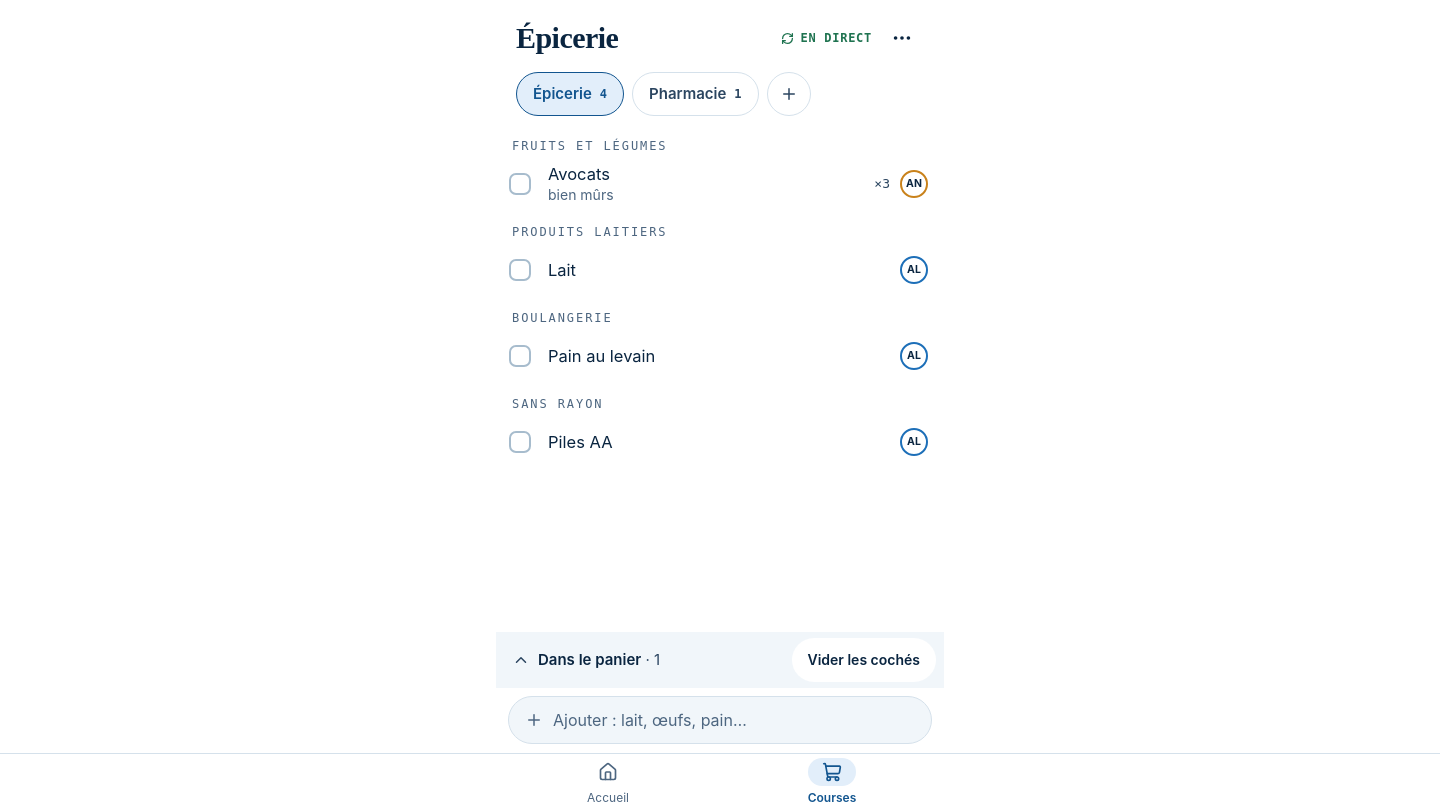
Test: cocher et le panier › décocher depuis le panier remet l’article dans son rayon
Expected: the heading "Épicerie" is shown, top-left (516, 21), bottom-right (618, 54)
Click the button "Dans le panier · 1" at (644, 660), box top-left (504, 636), bottom-right (784, 684)
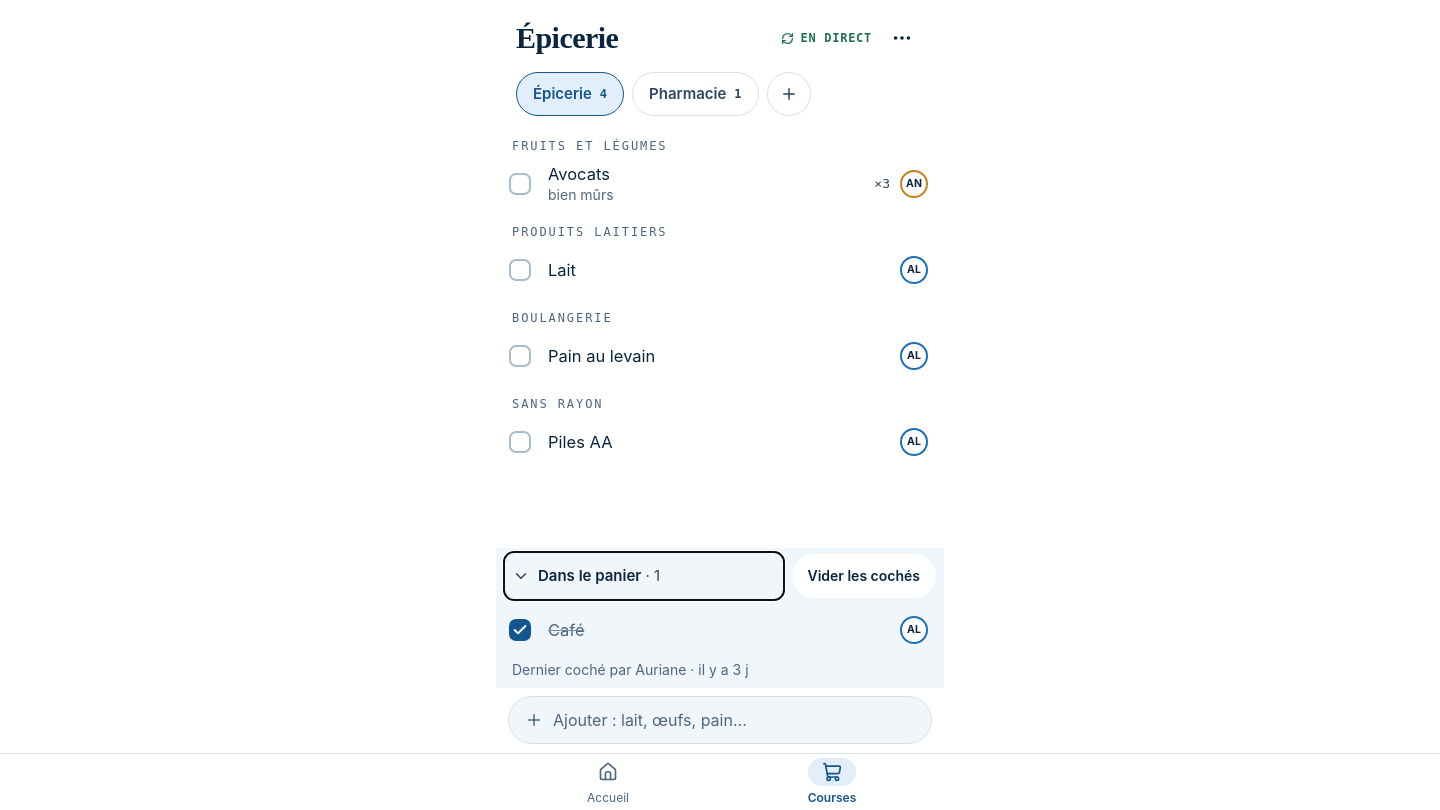
Click the checkbox named "Café" at (520, 630), box top-left (496, 606), bottom-right (544, 654)
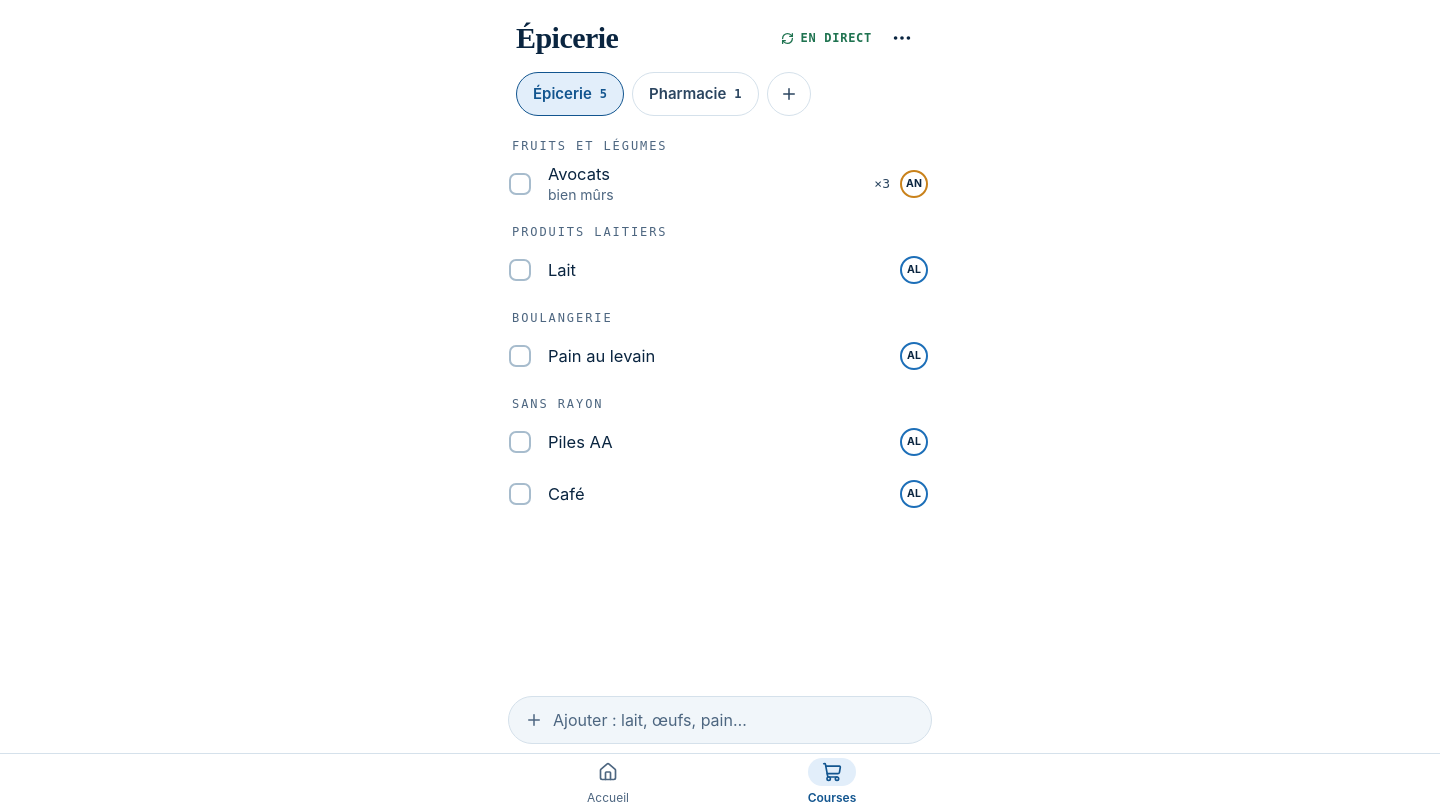
Expected: the checkbox named "Café" is not checked, top-left (496, 470), bottom-right (544, 518)
